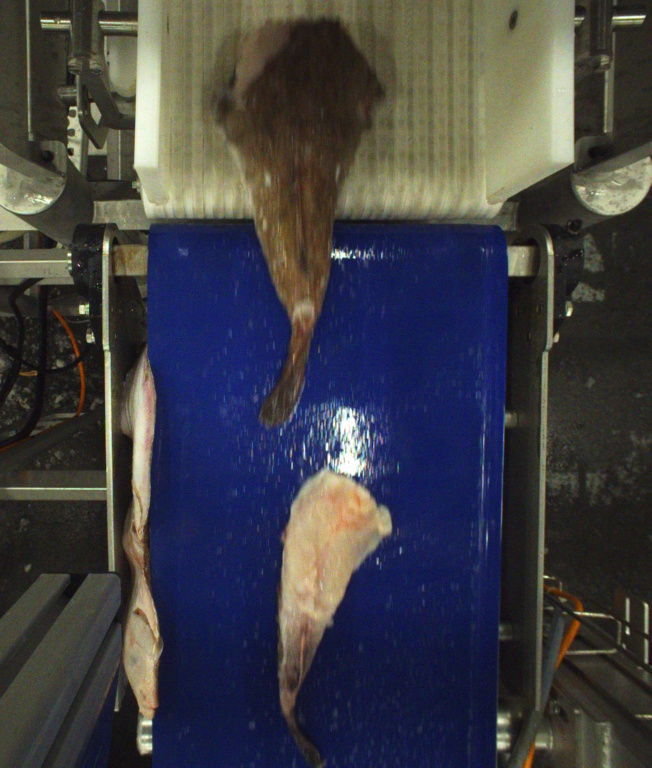ANF: (221, 15, 382, 435)
